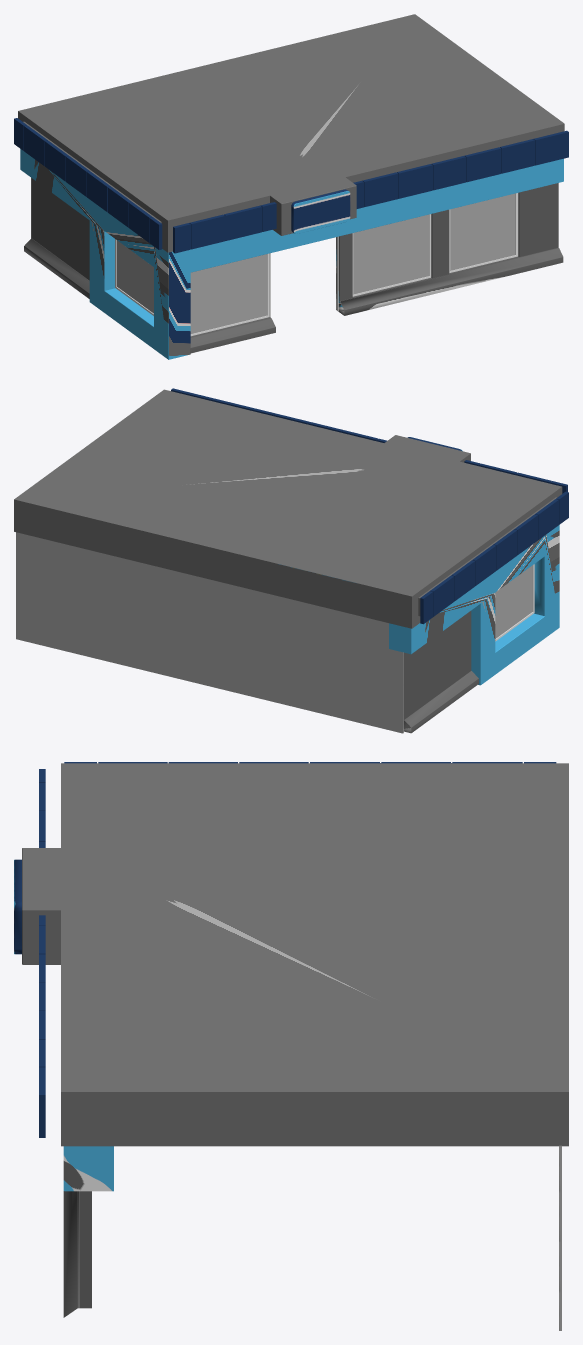
Rendered from REF_Estructura_tienda_completa_R2R.obj.
3 renders of one model, top to bottom at view 1: azimuth 30°, elevation 25°; view 2: azimuth 150°, elevation 25°; view 3: azimuth 270°, elevation 25°, orthographic. The views are drawn at different scales.
Visible parts, largest first — view 1: REF_Estructura_tienda_completa_R2R; view 2: REF_Estructura_tienda_completa_R2R; view 3: REF_Estructura_tienda_completa_R2R.
Boxes of the visible parts, <box> form: REF_Estructura_tienda_completa_R2R: <box>14,14,568,359</box>; REF_Estructura_tienda_completa_R2R: <box>14,388,568,733</box>; REF_Estructura_tienda_completa_R2R: <box>14,762,568,1330</box>.
Size of the model in its own units: 12.04 by 4 by 8.43.
